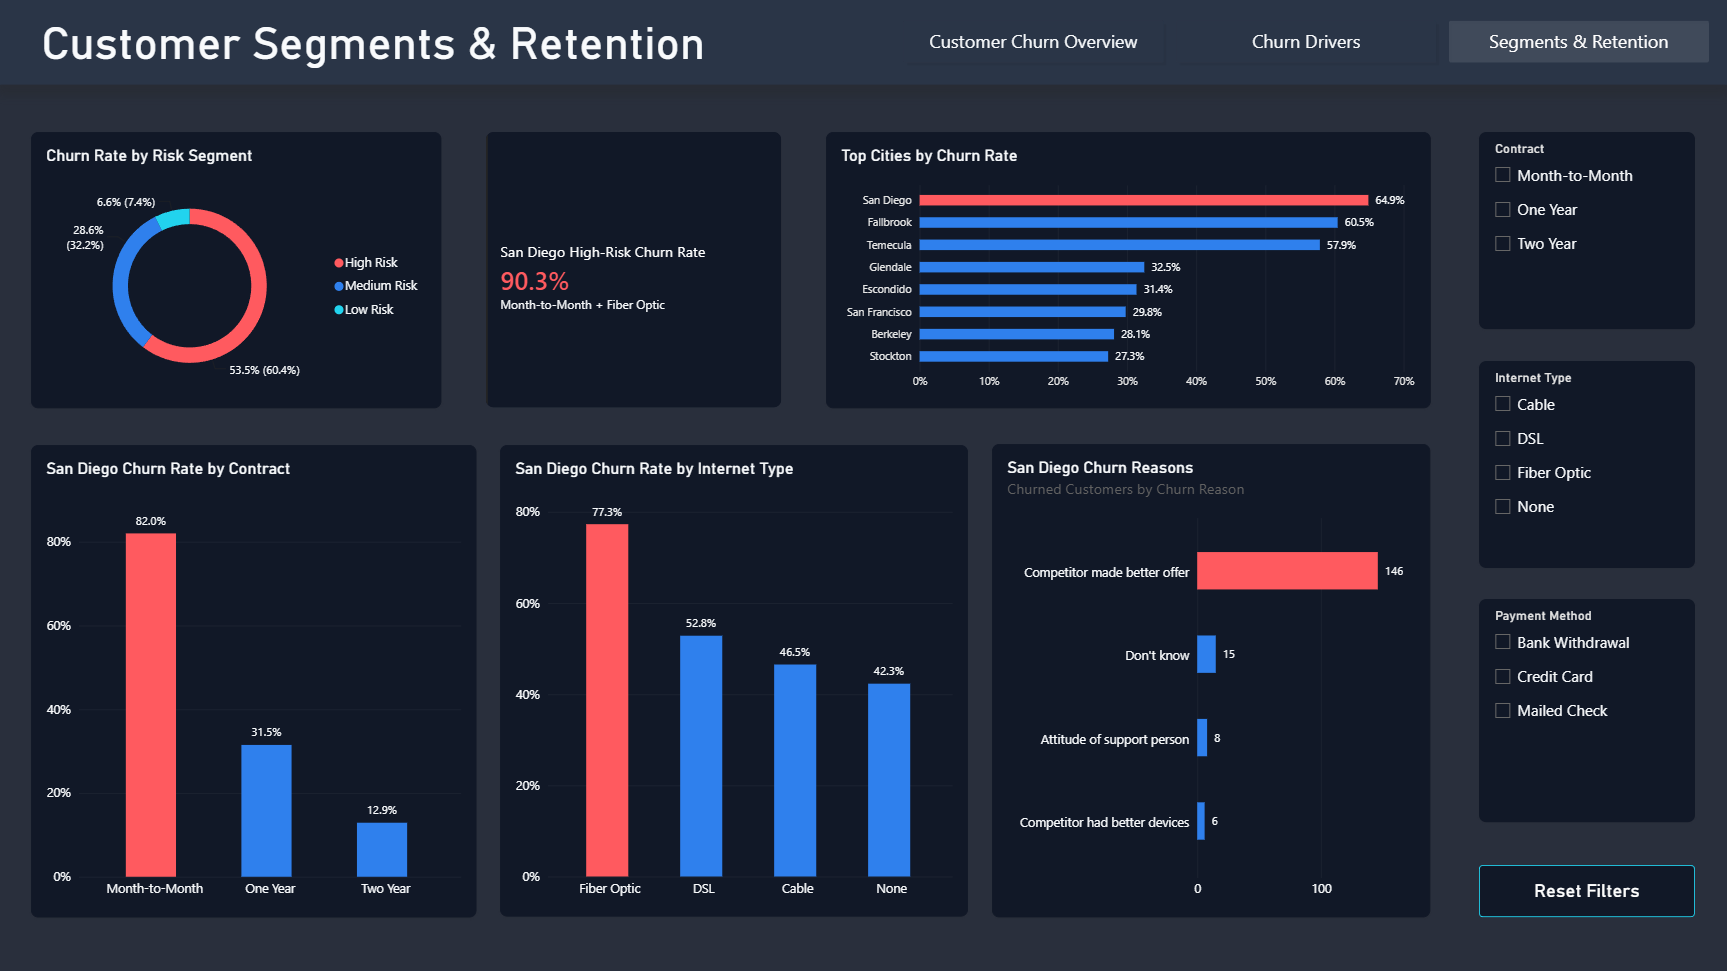

This screenshot's page, from the dashboard's own definition file:
{"tool":"powerbi","page":{"name":"Segments & Retention","canvas":[1920,1080],"ordinal":2},"visuals":[{"type":"donutChart","fields":{"Category":["Customer_Services.Risk Segment"],"Y":["Customer_Status.Churn Rate"]},"box":[36,146.9,455.6,306.7],"z":0},{"type":"barChart","title":"Top Cities by Churn Rate","fields":{"Category":["Customer_Location.City"],"Y":["Customer_Status.Churn Rate"]},"box":[918.5,146.9,671.7,306.8],"z":1000},{"type":"columnChart","title":"San Diego Churn Rate by Contract","fields":{"Category":["Customer_Services.Contract"],"Y":["Customer_Status.Churn Rate"]},"box":[35.6,494.4,494.7,524.7],"z":2000},{"type":"columnChart","title":"San Diego Churn Rate by Internet Type","fields":{"Category":["Customer_Services.Internet Type"],"Y":["Customer_Status.Churn Rate"]},"box":[556.8,494.4,520,524.4],"z":3000},{"type":"barChart","title":"San Diego Churn Reasons","fields":{"Category":["Customer_Status.Churn Reason"],"Y":["Customer_Status.Churned Customers"]},"box":[1103.3,493.3,486.7,525.6],"z":4000},{"type":"cardVisual","title":"Month-to-Month + Fiber Optic","fields":{"Data":["Customer_Demographics.San Diego High-Risk Churn Rate"]},"box":[540.6,146.9,328.9,306.7],"z":5000},{"type":"slicer","fields":{"Values":["Customer_Services.Contract"]},"box":[1644.4,146.7,240,218.9],"z":7000},{"type":"slicer","fields":{"Values":["Customer_Services.Internet Type"]},"box":[1644.1,400.7,239.9,229.9],"z":8000},{"type":"slicer","fields":{"Values":["Customer_Services.Payment Method"]},"box":[1644.3,665.8,239.9,247.9],"z":9000},{"type":"actionButton","box":[1644.4,961.1,239.9,58],"z":10000},{"type":"shape","box":[0,0,1920.4,94],"z":11000},{"type":"pageNavigator","box":[1000.5,18,905.5,58],"z":12000},{"type":"textbox","box":[47.8,18.9,751.1,64.4],"z":13000},{"type":"textbox","box":[553.3,327.8,294.4,28.9],"z":13001}]}

Visuals, with their boxes in screenshot pixels (x1, y1, x2, y2), scaled from the page's 1920x1080 canvas onto the 1727x971 screenshot:
donutChart - Customer_Services.Risk Segment x Customer_Status.Churn Rate: locate(32, 132, 442, 408)
"Top Cities by Churn Rate" barChart: locate(826, 132, 1430, 408)
"San Diego Churn Rate by Contract" columnChart: locate(32, 445, 477, 916)
"San Diego Churn Rate by Internet Type" columnChart: locate(501, 445, 969, 916)
"San Diego Churn Reasons" barChart: locate(992, 444, 1430, 916)
"Month-to-Month + Fiber Optic" cardVisual: locate(486, 132, 782, 408)
slicer - Customer_Services.Contract: locate(1479, 132, 1695, 329)
slicer - Customer_Services.Internet Type: locate(1479, 360, 1695, 567)
slicer - Customer_Services.Payment Method: locate(1479, 599, 1695, 821)
actionButton: locate(1479, 864, 1695, 916)
shape: locate(0, 0, 1726, 85)
pageNavigator: locate(900, 16, 1714, 68)
textbox: locate(43, 17, 719, 75)
textbox: locate(498, 295, 762, 321)
